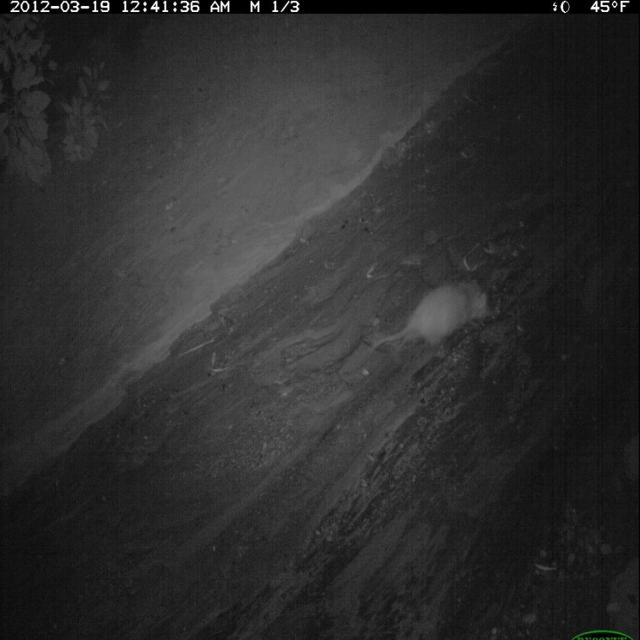opossum: (365, 272, 500, 368)
